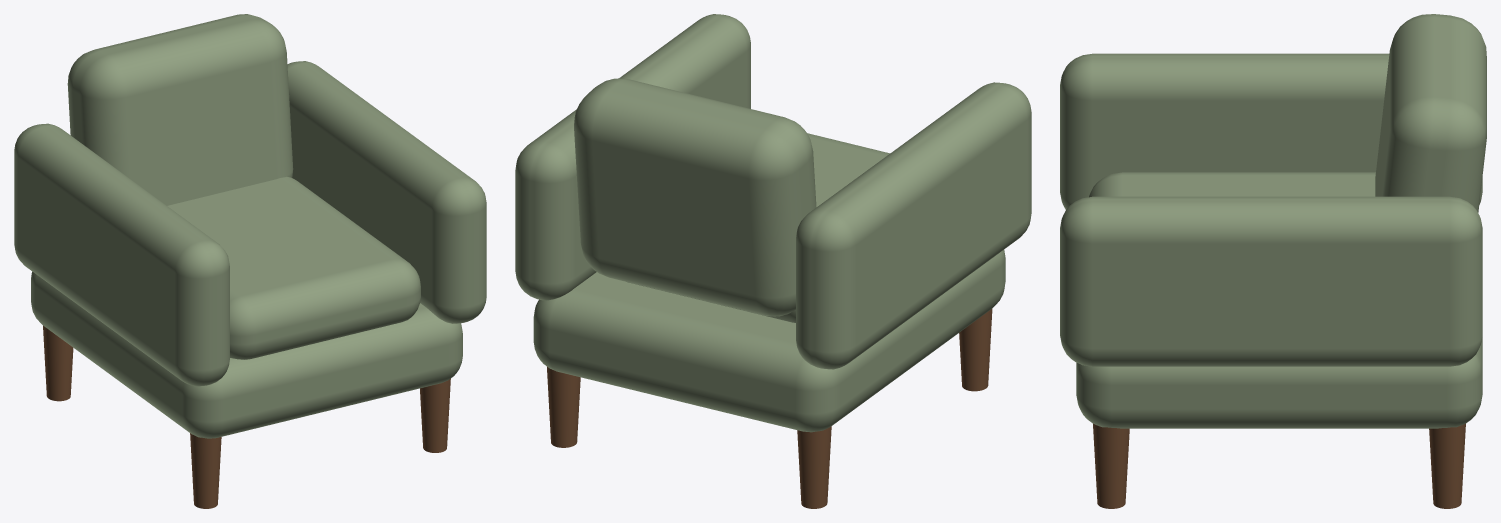
Rendered from arc-chair-sage.glb.
3 renders of one model, left to right at view 1: azimuth 30°, elevation 25°; view 2: azimuth 150°, elevation 25°; view 3: azimuth 270°, elevation 25°, orthographic. The views are drawn at different scales.
Visible parts, largest first — view 1: The Arc Chair — Sage; view 2: The Arc Chair — Sage; view 3: The Arc Chair — Sage.
Part boxes in pixels (x1=…): The Arc Chair — Sage: x1=14, y1=14, x2=486, y2=508; The Arc Chair — Sage: x1=515, y1=14, x2=1031, y2=508; The Arc Chair — Sage: x1=1060, y1=14, x2=1486, y2=508.
Size of the model in its own units: 0.78 by 0.81 by 0.82.
